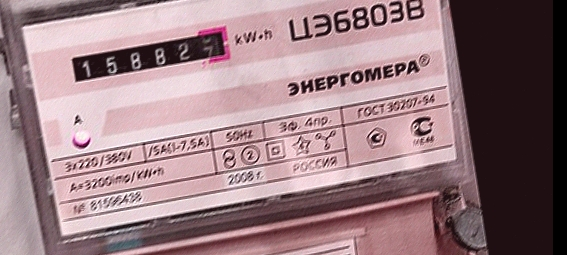1: (78, 56, 93, 77)
2: (176, 39, 191, 60)
5: (103, 52, 118, 74)
7: (202, 42, 215, 58)
8: (128, 47, 143, 70), (152, 44, 167, 66)
screen: (61, 18, 241, 90)
